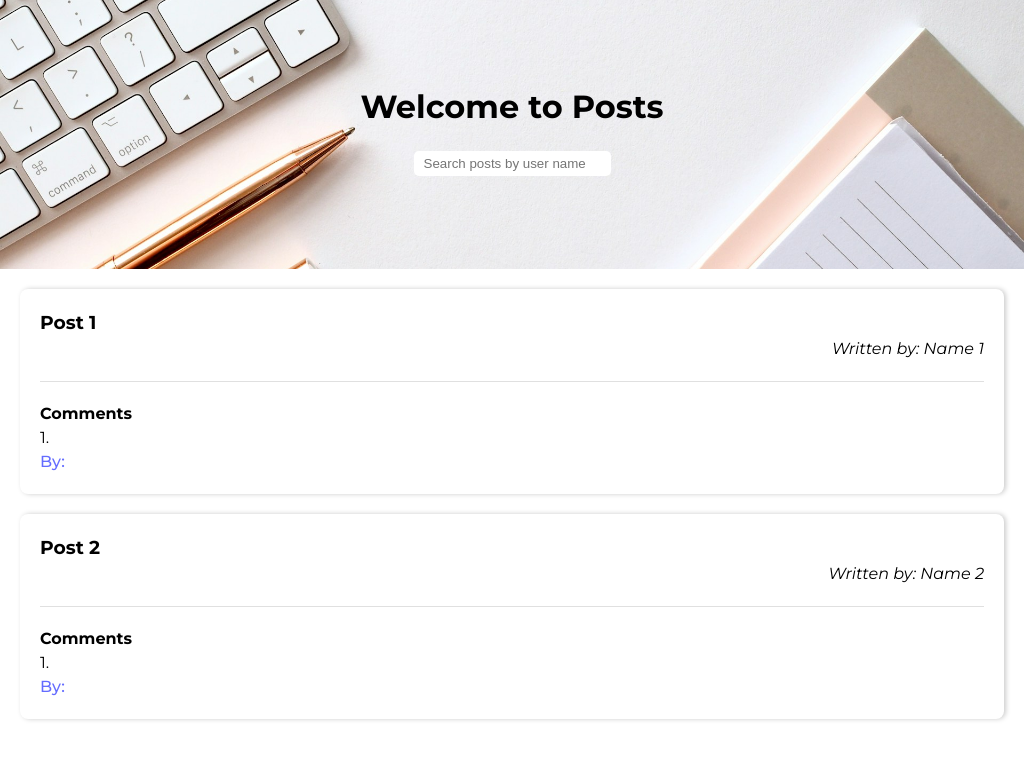
Test: Posts component with lazy loading › renders and filters posts correctly
This screenshot has width=1024, height=768.
Expected: the heading "Post 1" is shown, [40,311,96,334]
Type "1" into the field with placeholder "Search posts by user name" at (512, 163), box [414,151,610,176]
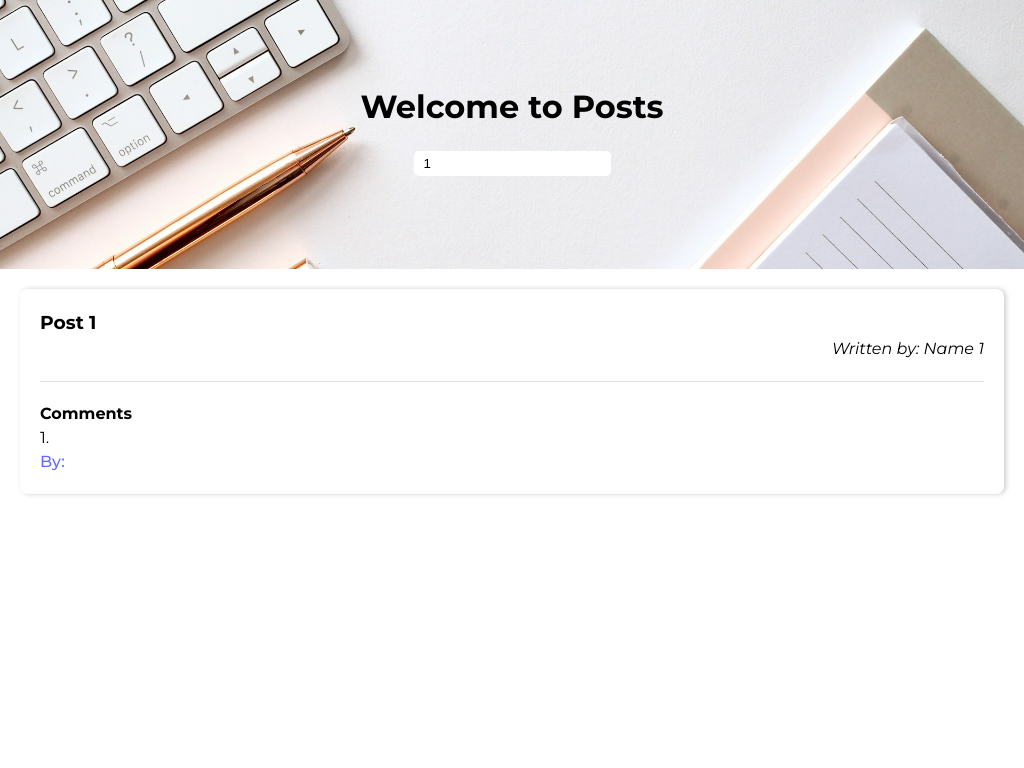
Expected: the heading "Post 1" is shown, [40,311,96,334]
Now the link "Post 2" is gone
